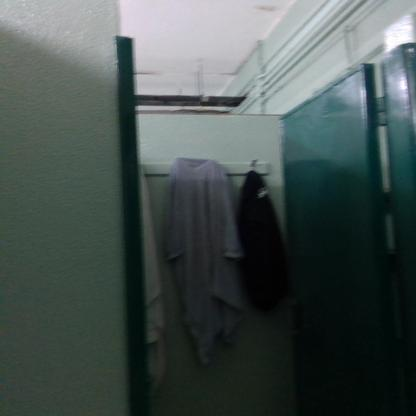open: (103, 20, 416, 416)
